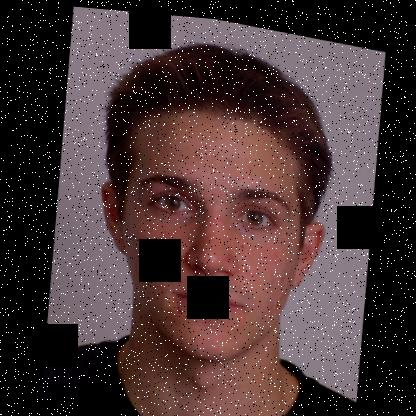Male: (82, 88, 337, 375)
